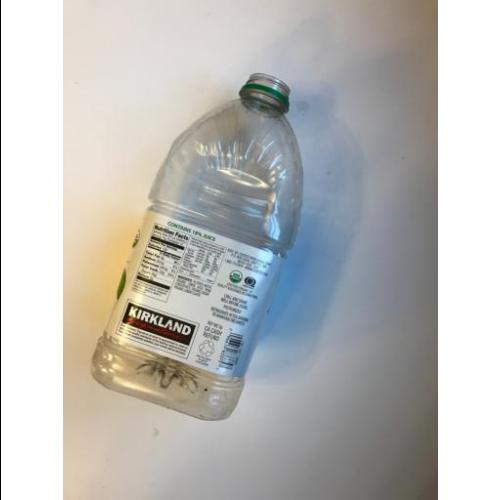plastic: (91, 72, 304, 419)
